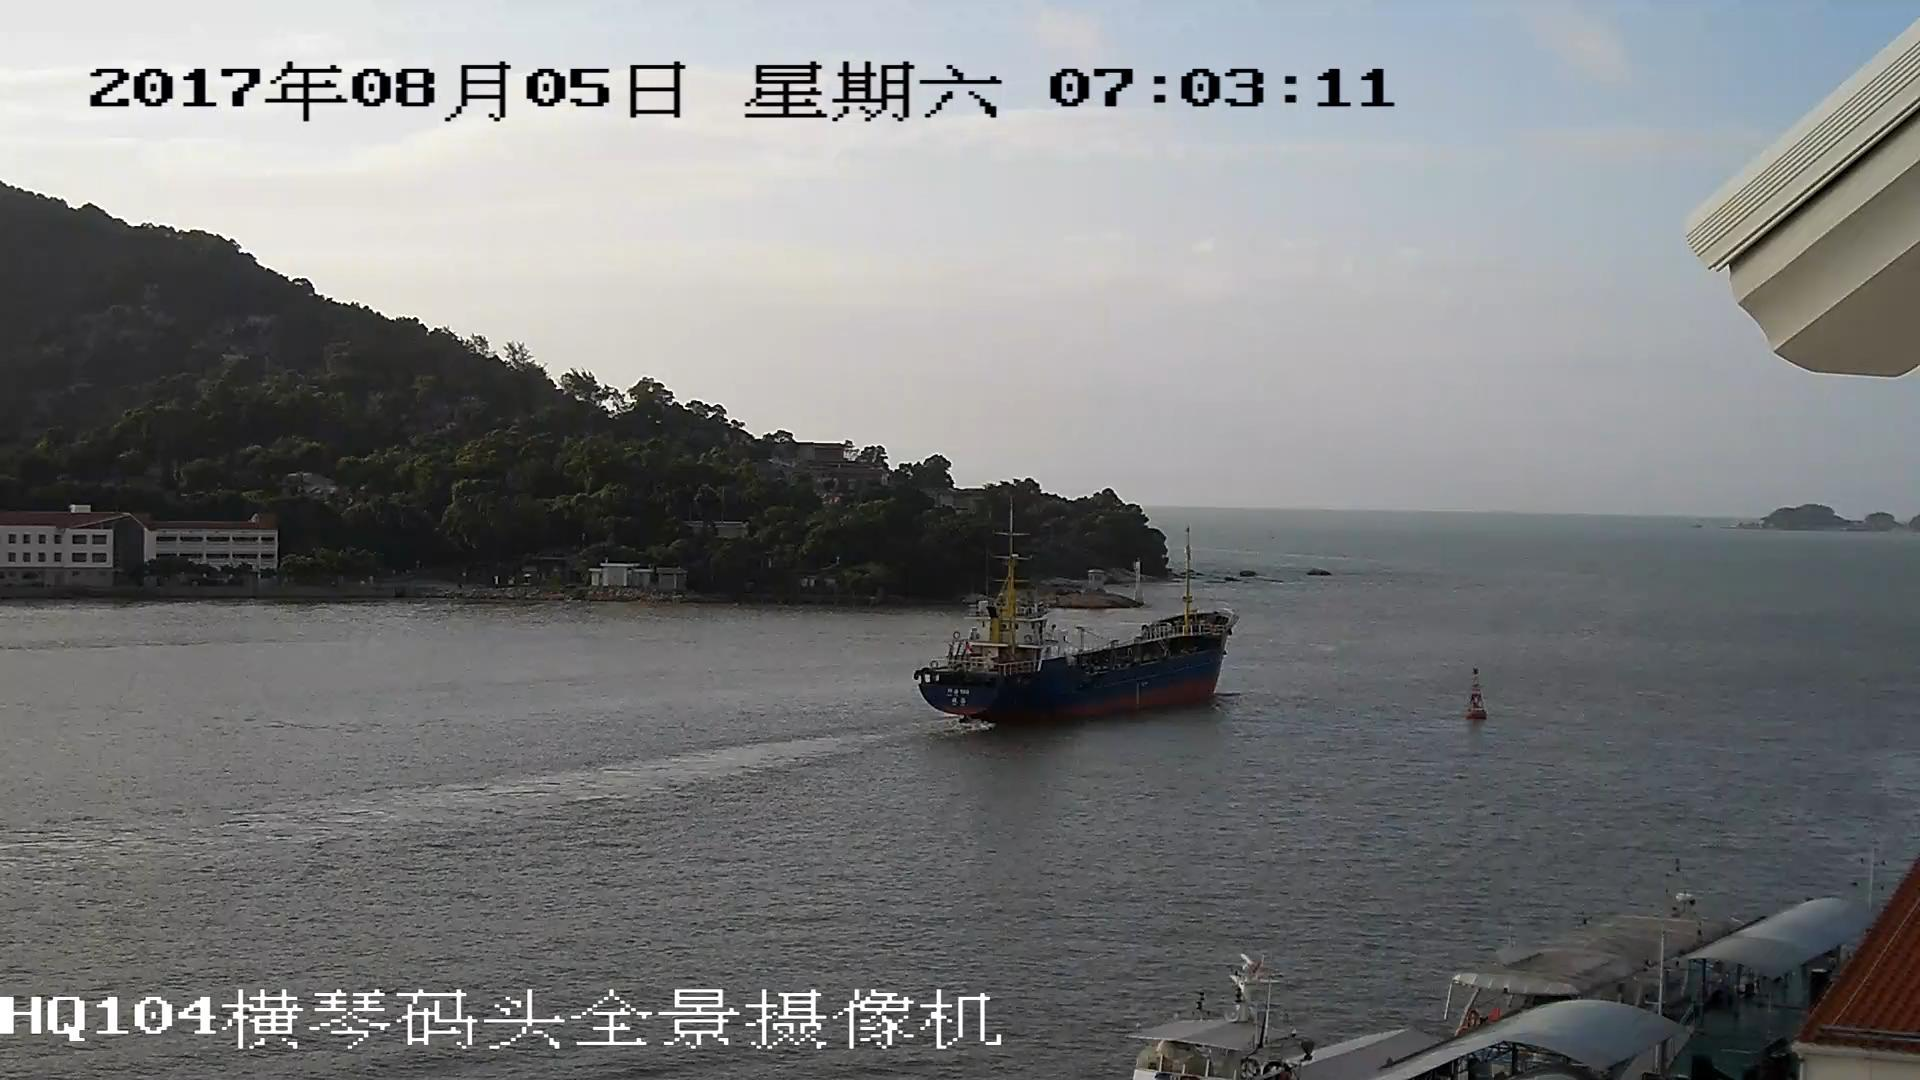Ship: (910, 531, 1240, 721)
